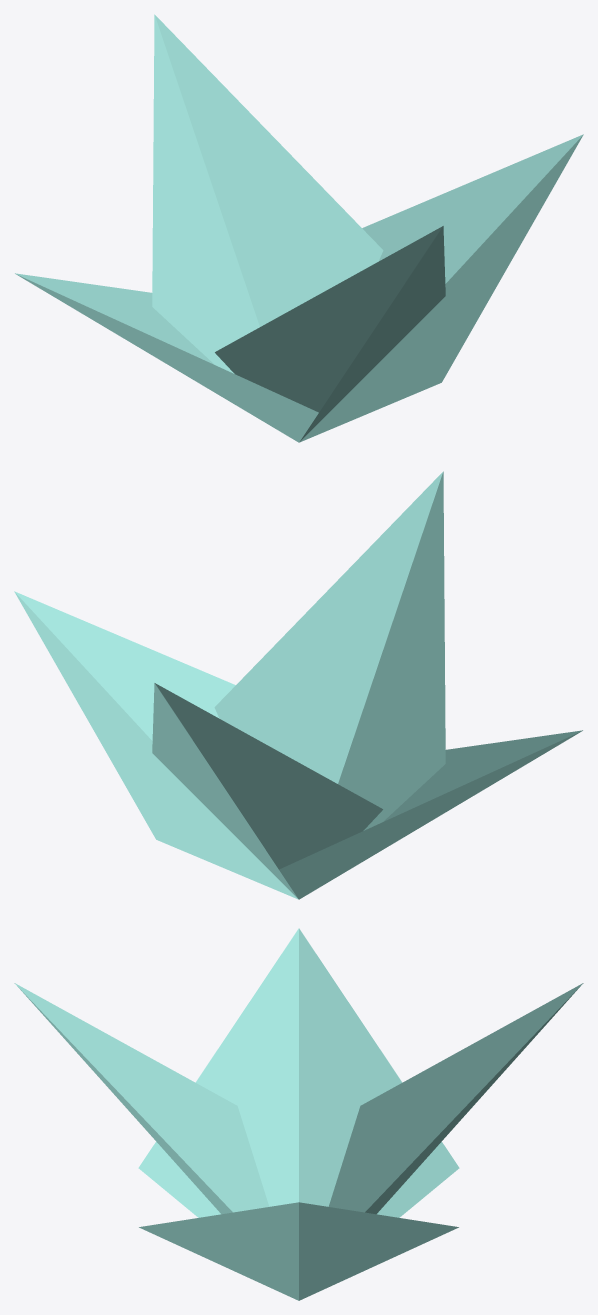
File: plant_bushSmall.glb
3 views of the same model, one above another, from view 1: azimuth 30°, elevation 25°; view 2: azimuth 150°, elevation 25°; view 3: azimuth 270°, elevation 25° (orthographic).
Visible parts, largest first — view 1: plant_bushSmall; view 2: plant_bushSmall; view 3: plant_bushSmall.
Boxes of the visible parts, x1,y1,x2,y2 form: plant_bushSmall: (15, 14, 583, 442); plant_bushSmall: (14, 471, 582, 899); plant_bushSmall: (14, 928, 583, 1300).
Size of the model in its own units: 0.383 by 0.2073 by 0.3363.
